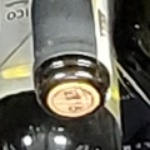bottle: (24, 45, 122, 127)
